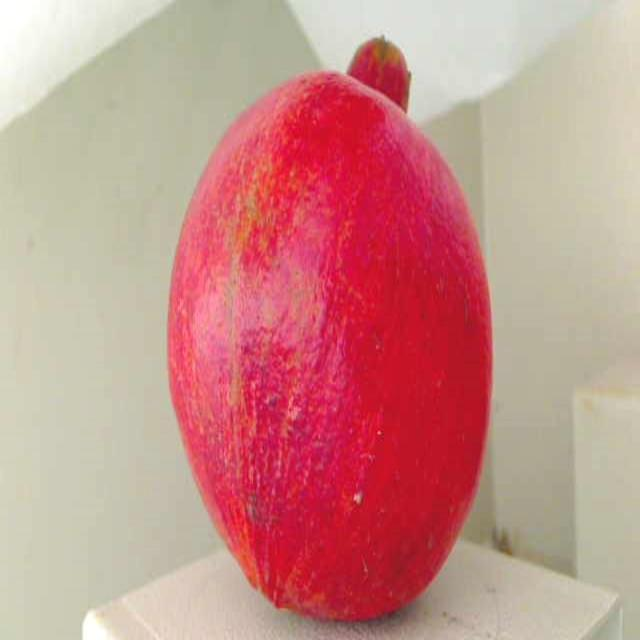pomegranate: (156, 31, 509, 640)
